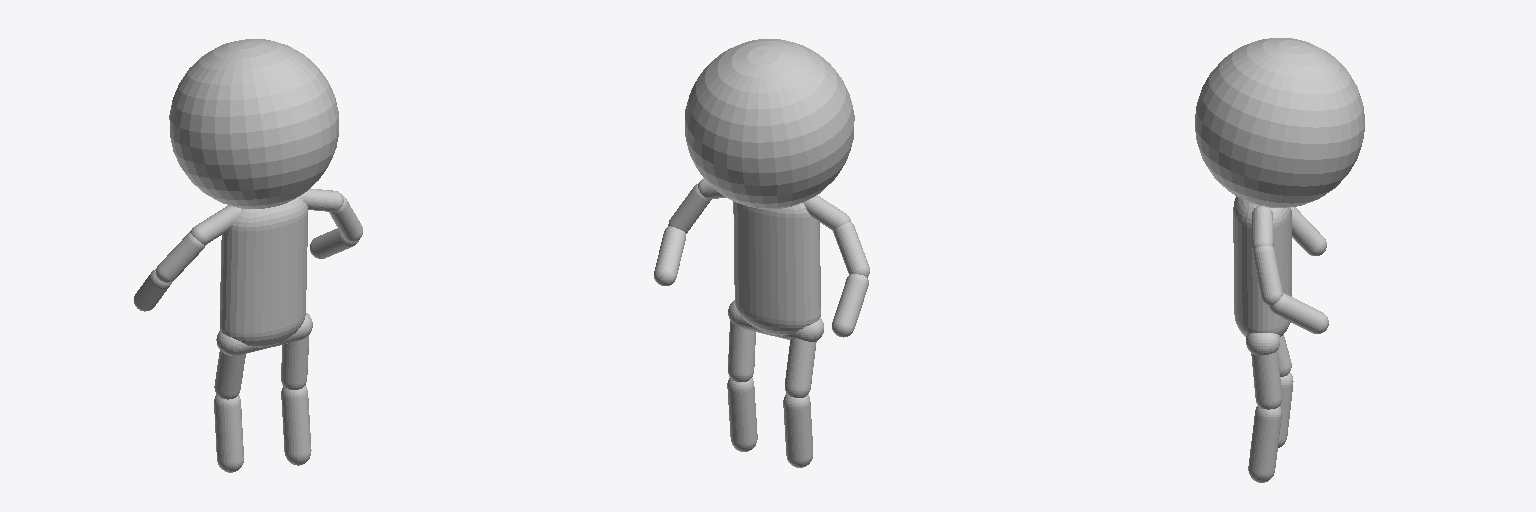
Rendered from Stickman_000053.obj.
3 renders of one model, left to right at view 1: azimuth 30°, elevation 25°; view 2: azimuth 150°, elevation 25°; view 3: azimuth 270°, elevation 25°, orthographic.
Visible parts, largest first — view 1: Head_Sphere.001, Body_Roundcube.002, LowerLegLeft_Roundcube.013, LowerLegRight_Roundcube.011, UpperLegLeft_Roundcube.012, UpperArmRight_Roundcube.015, UpperLegRight_Roundcube.010, ShoulderRight_Roundcube.014, Hip_Roundcube.005, LowerArmLeft_Roundcube.019, LowerArmRight_Roundcube.016, ShoulderLeft_Roundcube.017 (+1 smaller); view 2: Head_Sphere.001, Body_Roundcube.002, LowerLegRight_Roundcube.011, LowerLegLeft_Roundcube.013, UpperLegRight_Roundcube.010, LowerArmRight_Roundcube.016, UpperLegLeft_Roundcube.012, LowerArmLeft_Roundcube.019, UpperArmRight_Roundcube.015, UpperArmLeft_Roundcube.018, ShoulderRight_Roundcube.014, Hip_Roundcube.005; view 3: Head_Sphere.001, Body_Roundcube.002, LowerLegLeft_Roundcube.013, UpperLegLeft_Roundcube.012, LowerArmLeft_Roundcube.019, UpperArmLeft_Roundcube.018, LowerArmRight_Roundcube.016, ShoulderLeft_Roundcube.017, LowerLegRight_Roundcube.011, Hip_Roundcube.005.
Part boxes in pixels (bbox=[...]): Head_Sphere.001: bbox=[169, 39, 338, 208]; Body_Roundcube.002: bbox=[220, 197, 307, 347]; LowerLegLeft_Roundcube.013: bbox=[281, 385, 311, 465]; LowerLegRight_Roundcube.011: bbox=[214, 394, 243, 472]; UpperLegLeft_Roundcube.012: bbox=[281, 334, 309, 389]; UpperArmRight_Roundcube.015: bbox=[156, 232, 205, 282]; UpperLegRight_Roundcube.010: bbox=[214, 350, 245, 399]; ShoulderRight_Roundcube.014: bbox=[190, 205, 240, 244]; Hip_Roundcube.005: bbox=[216, 313, 312, 355]; LowerArmLeft_Roundcube.019: bbox=[310, 228, 359, 258]; LowerArmRight_Roundcube.016: bbox=[134, 268, 171, 311]; ShoulderLeft_Roundcube.017: bbox=[299, 188, 343, 211]; Head_Sphere.001: bbox=[685, 39, 854, 209]; Body_Roundcube.002: bbox=[733, 201, 820, 335]; LowerLegRight_Roundcube.011: bbox=[783, 393, 812, 467]; LowerLegLeft_Roundcube.013: bbox=[727, 378, 757, 451]; UpperLegRight_Roundcube.010: bbox=[785, 338, 816, 397]; LowerArmRight_Roundcube.016: bbox=[832, 274, 868, 337]; UpperLegLeft_Roundcube.012: bbox=[728, 321, 755, 381]; LowerArmLeft_Roundcube.019: bbox=[654, 226, 685, 285]; UpperArmRight_Roundcube.015: bbox=[833, 222, 869, 277]; UpperArmLeft_Roundcube.018: bbox=[668, 183, 711, 233]; ShoulderRight_Roundcube.014: bbox=[803, 195, 850, 230]; Hip_Roundcube.005: bbox=[728, 300, 823, 341]; Head_Sphere.001: bbox=[1195, 38, 1364, 207]; Body_Roundcube.002: bbox=[1233, 196, 1291, 336]; LowerLegLeft_Roundcube.013: bbox=[1248, 406, 1281, 482]; UpperLegLeft_Roundcube.012: bbox=[1251, 350, 1281, 409]; LowerArmLeft_Roundcube.019: bbox=[1269, 293, 1328, 333]; UpperArmLeft_Roundcube.018: bbox=[1253, 245, 1282, 305]; LowerArmRight_Roundcube.016: bbox=[1291, 207, 1326, 255]; ShoulderLeft_Roundcube.017: bbox=[1252, 206, 1273, 249]; LowerLegRight_Roundcube.011: bbox=[1278, 373, 1293, 447]; Hip_Roundcube.005: bbox=[1246, 333, 1279, 354].
Bounding box in the file's own units: 6.23 × 12.12 × 4.47.